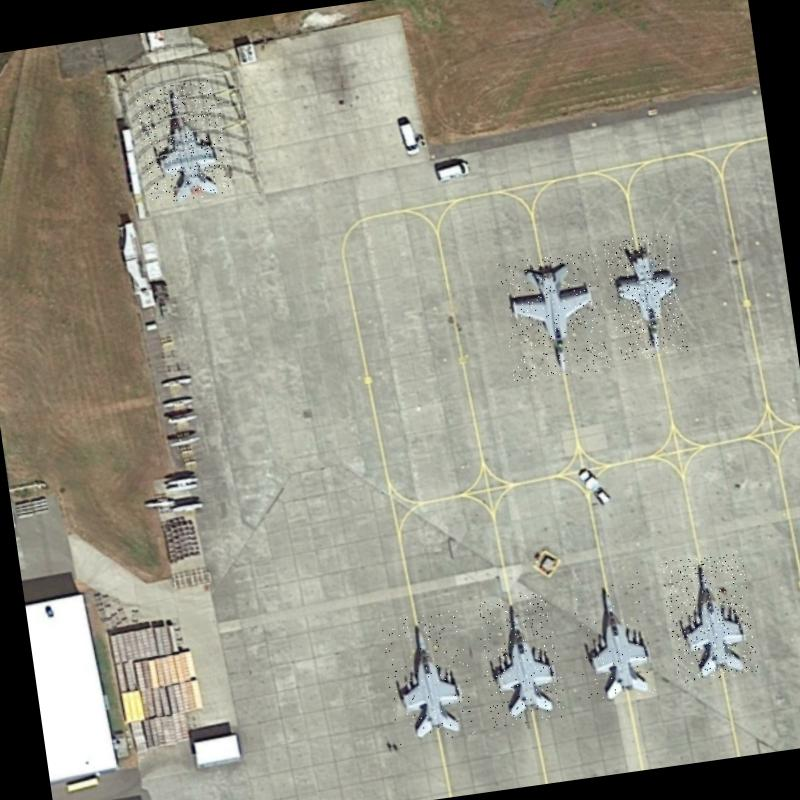A16: (497, 249, 612, 383), (380, 609, 478, 746), (660, 550, 758, 683), (473, 592, 567, 728), (569, 571, 660, 706), (136, 78, 233, 204), (603, 232, 688, 361)
